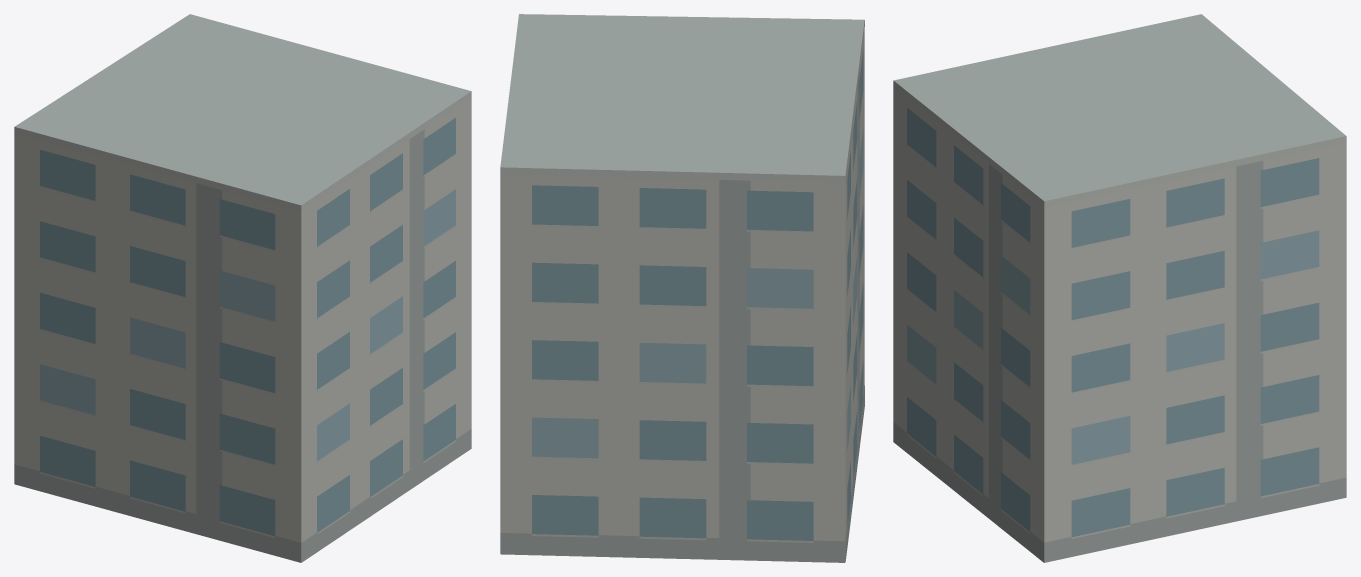
File: survey-upis-32893320.glb
3 views of the same model, side by side, from view 1: azimuth 30°, elevation 25°; view 2: azimuth 150°, elevation 25°; view 3: azimuth 270°, elevation 25° (orthographic). The views are drawn at different scales.
Visible parts, largest first — view 1: survey-upis-32893320.tmp; view 2: survey-upis-32893320.tmp; view 3: survey-upis-32893320.tmp.
Boxes of the visible parts, x1,y1,x2,y2 form: survey-upis-32893320.tmp: [14, 14, 471, 562]; survey-upis-32893320.tmp: [500, 14, 864, 562]; survey-upis-32893320.tmp: [893, 14, 1346, 562].
Size of the model in its own units: 14.78 by 13.3 by 15.11.
